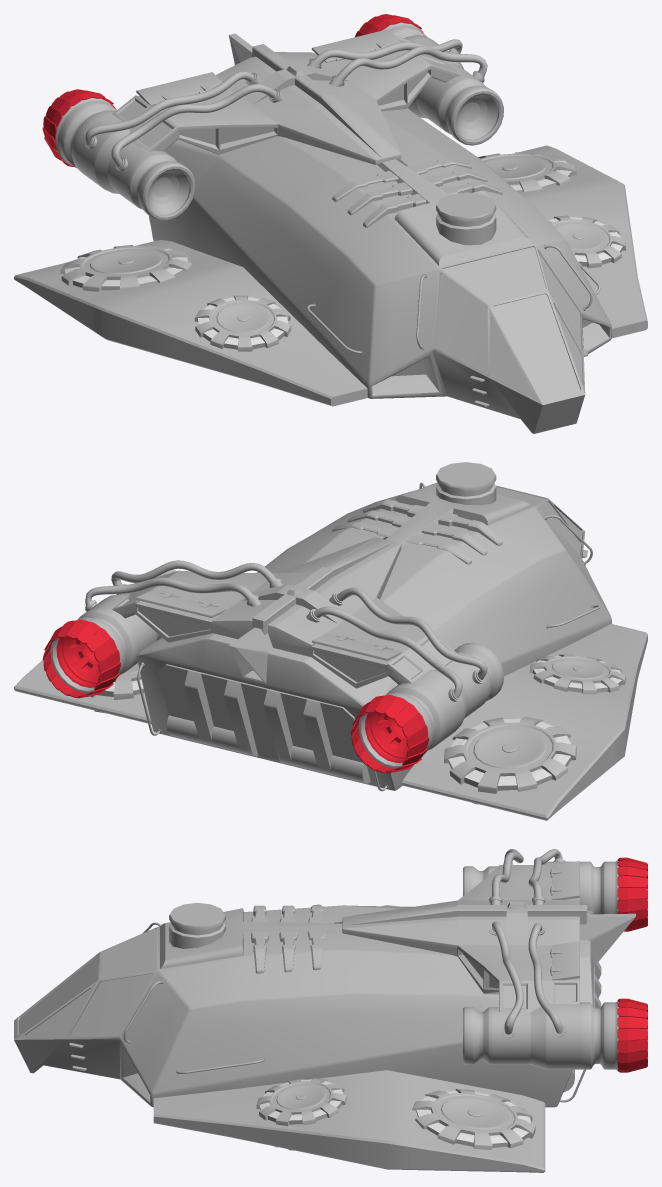
Rendered from Hovership.fbx.
The picture shows the model from 3 angles, top to bottom: view 1: azimuth 30°, elevation 25°; view 2: azimuth 150°, elevation 25°; view 3: azimuth 270°, elevation 25°; orthographic projection. The views are drawn at different scales.
Visible parts, largest first — view 1: Hovership, RadialEngines_R, RadialEngines_L; view 2: Hovership, Engine_L, Engine_R, RadialEngines_R; view 3: Hovership, RadialEngines_L.
Boxes of the visible parts, bbox=[...] form: Hovership: bbox=[14, 22, 647, 433]; RadialEngines_R: bbox=[65, 246, 287, 345]; RadialEngines_L: bbox=[480, 154, 622, 261]; Hovership: bbox=[14, 462, 647, 820]; Engine_L: bbox=[56, 636, 100, 687]; Engine_R: bbox=[365, 712, 408, 762]; RadialEngines_R: bbox=[448, 655, 621, 785]; Hovership: bbox=[14, 849, 635, 1172]; RadialEngines_L: bbox=[259, 1079, 531, 1143].
Size of the model in its own units: 2219 by 2024 by 675.
